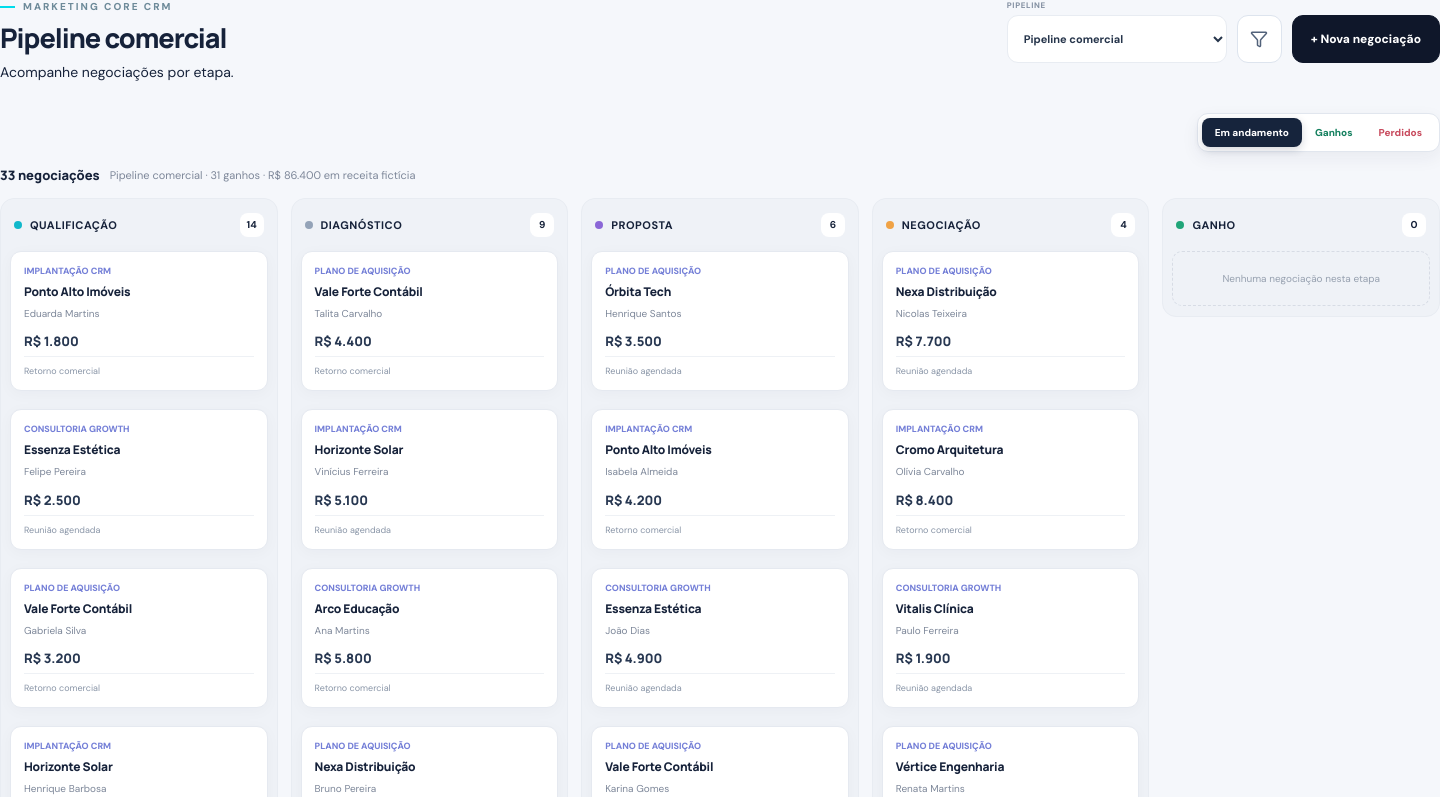
Test case: configuração de pipelines › exige motivo e aceita observação ao perder uma negociação
The image size is (1440, 797).
Click the button with test id "deal-card-opp-2" at (139, 480), box [10, 409, 268, 550]
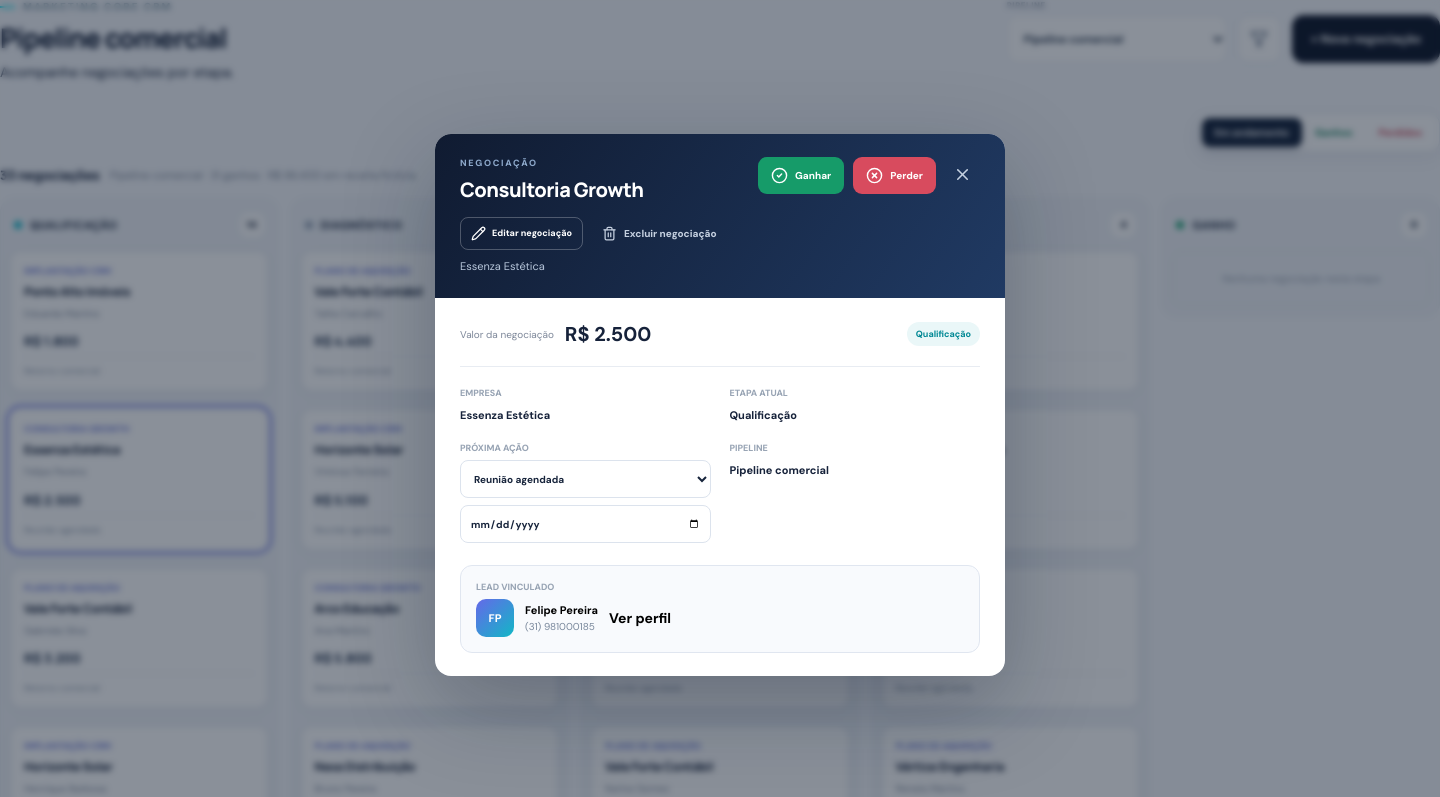
Click the button with aria-label "Marcar como perdida" at (895, 176), box [853, 157, 936, 194]
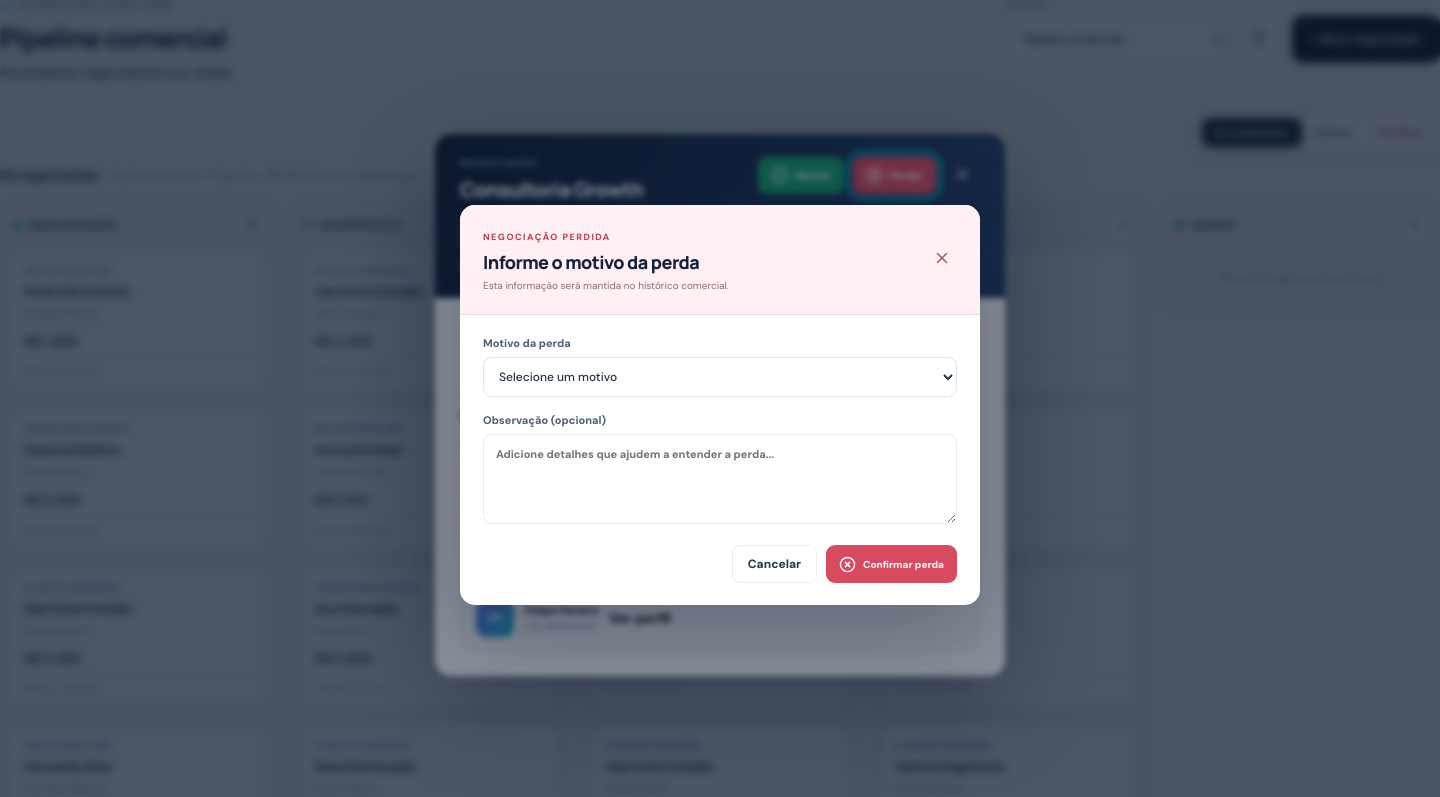
Now the dialog named "Registrar perda da negociação" is shown, box [460, 205, 980, 605]
Select "Preço/orçamento" in the dropdown labelled "Motivo da perda" at (720, 377), box [483, 357, 957, 397]
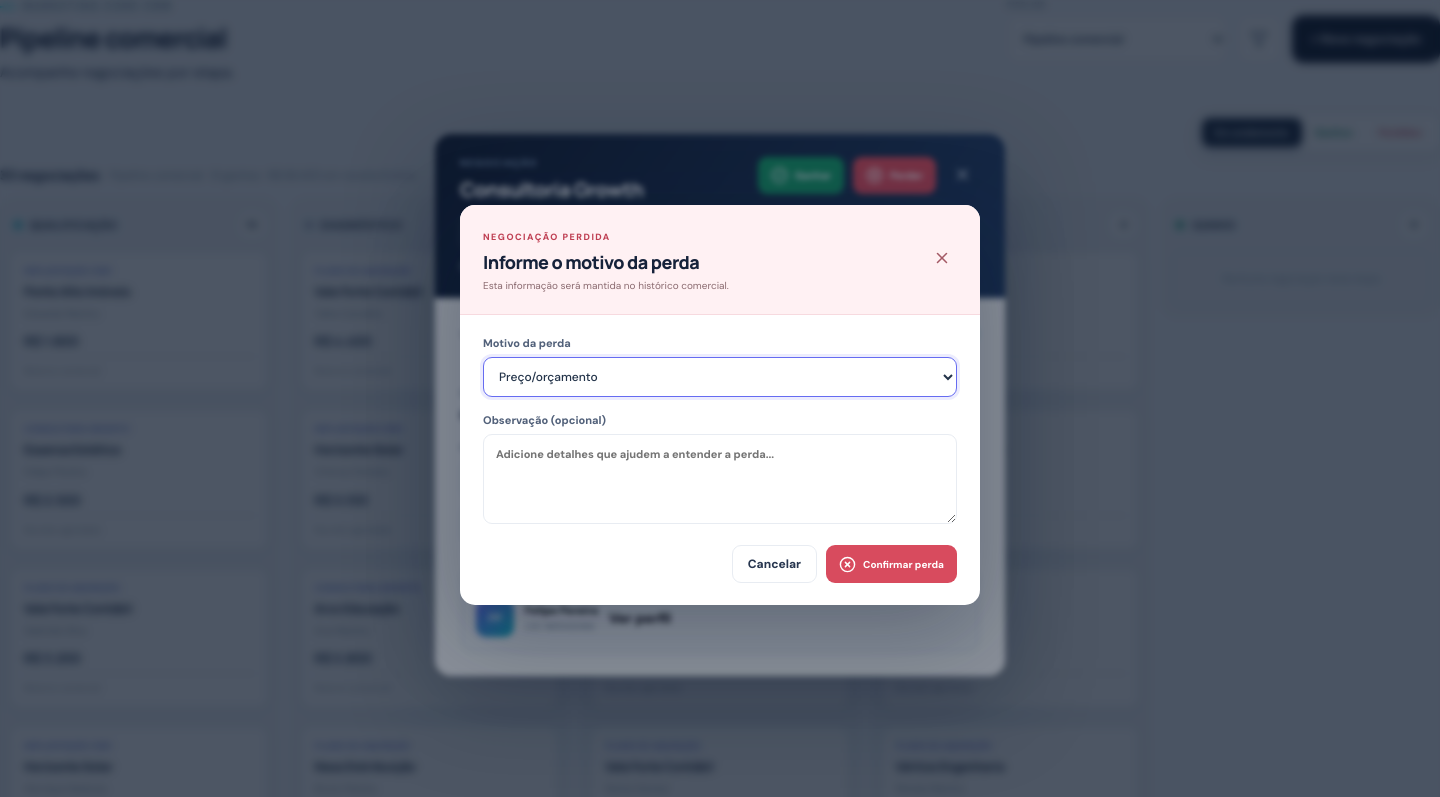
Type "Cliente adiou o projeto." into the text box named "Observação da perda" at (720, 479), box [483, 434, 957, 524]
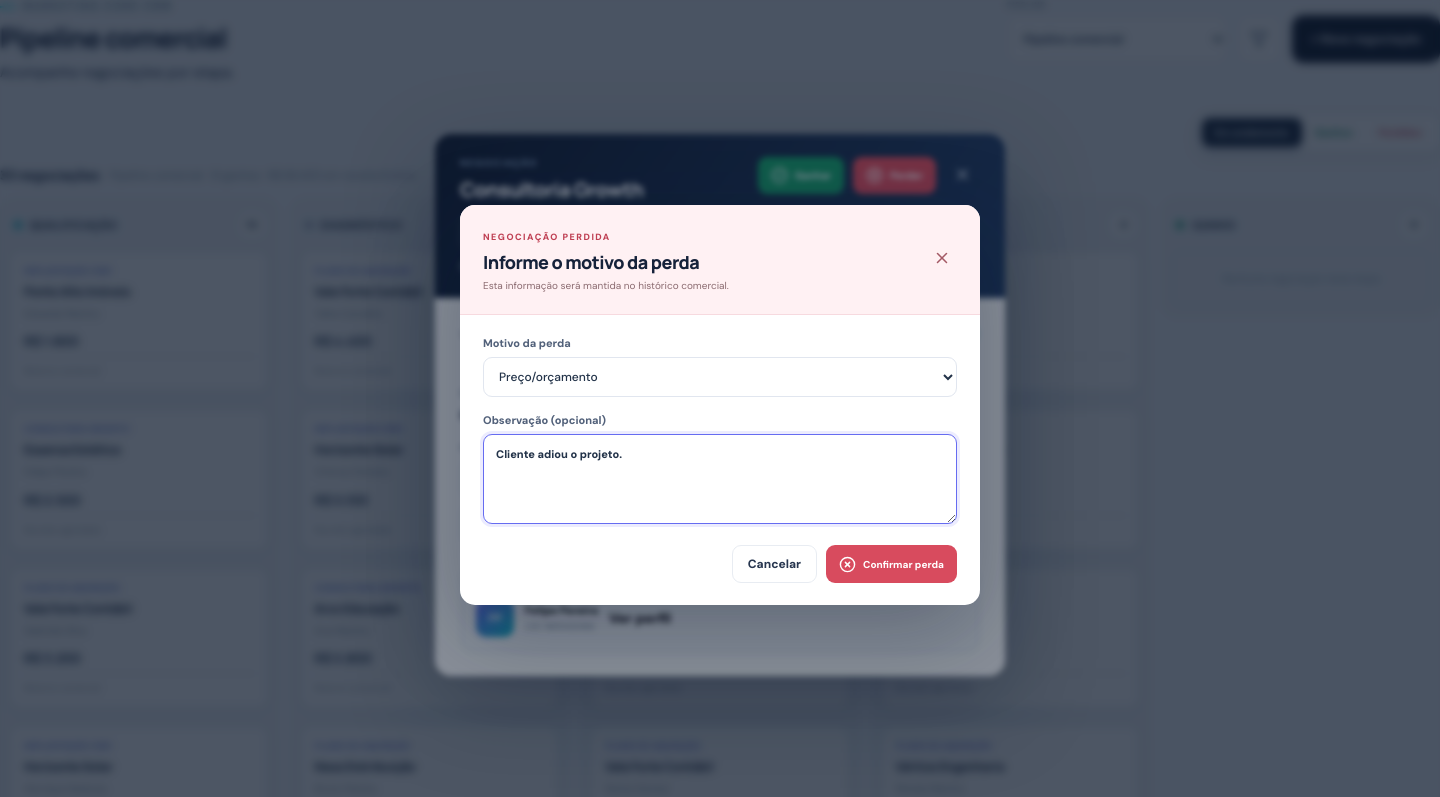
Click the button "Confirmar perda" at (892, 564), box [826, 545, 957, 583]
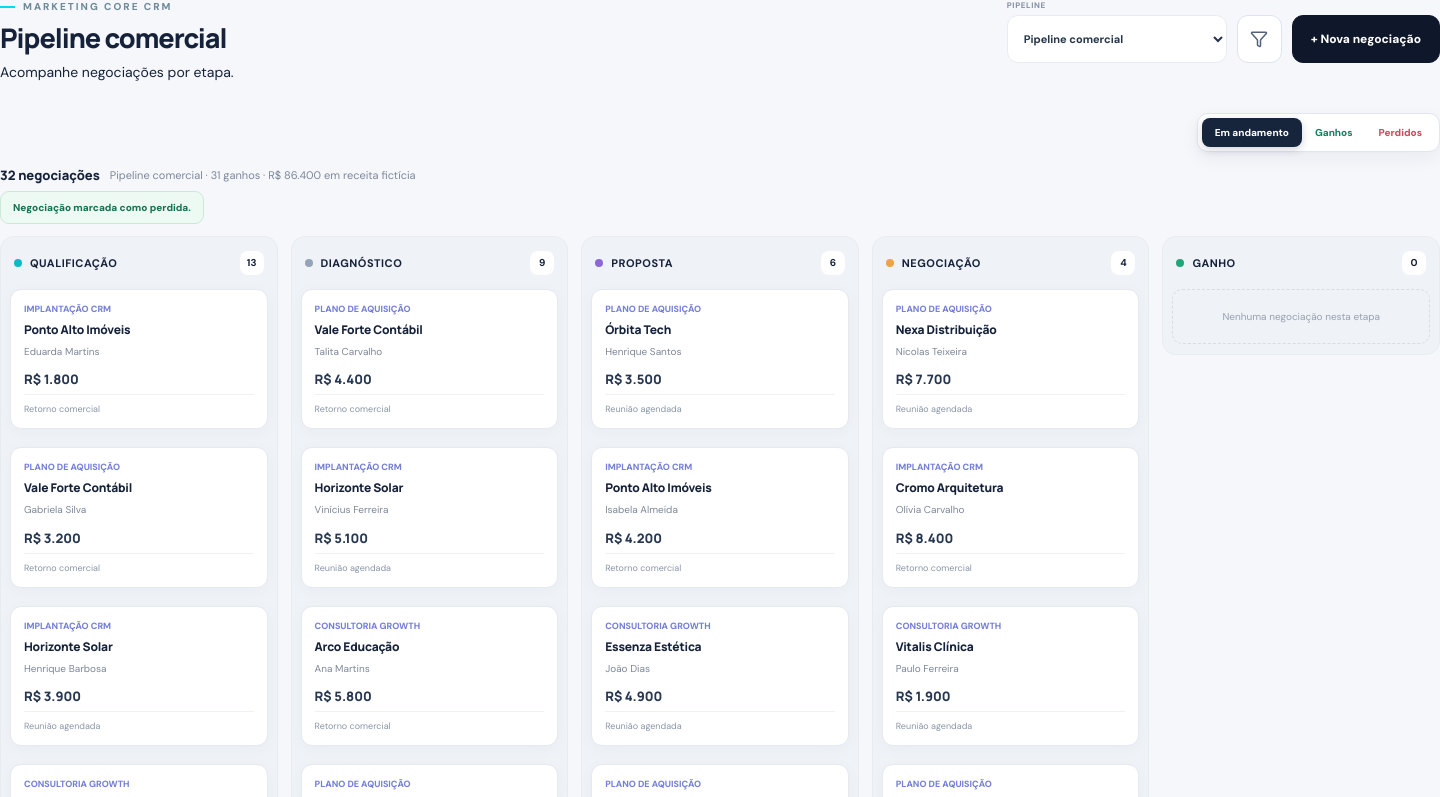
Now the message shows "Negociação marcada como perdida", box [13, 201, 191, 214]
Now the button with test id "deal-card-opp-2" is gone
